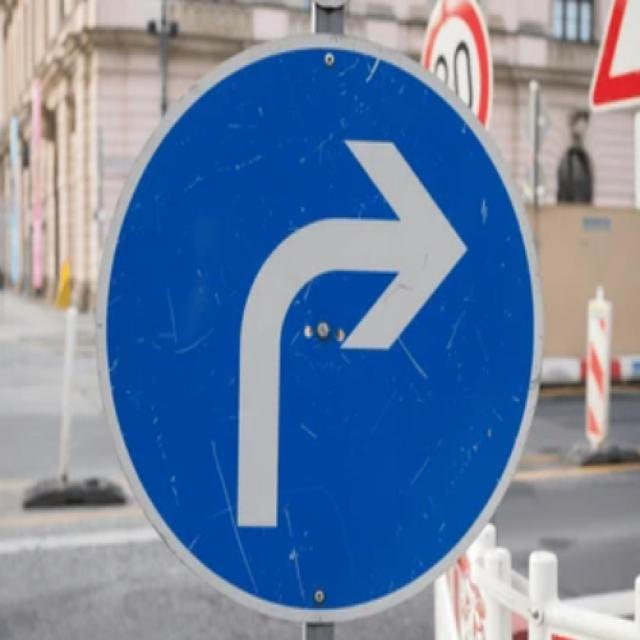RIGHT: (96, 32, 543, 625)
